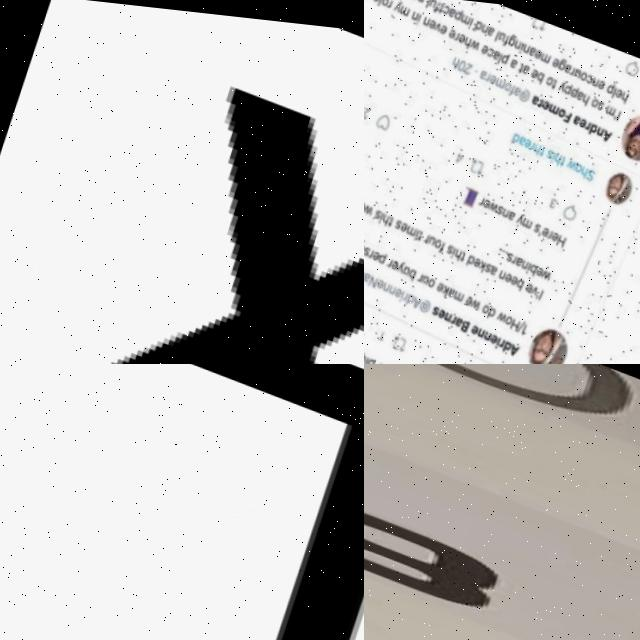0: (364, 364, 640, 441), (457, 52, 469, 67)
1: (525, 314, 533, 328), (383, 325, 390, 337)
2: (463, 55, 473, 69), (364, 102, 371, 113)
3: (549, 186, 560, 201)
4: (455, 144, 466, 157)
6: (364, 99, 366, 111)
8: (364, 468, 534, 626)
L: (0, 364, 364, 640)
X: (0, 22, 364, 364)
